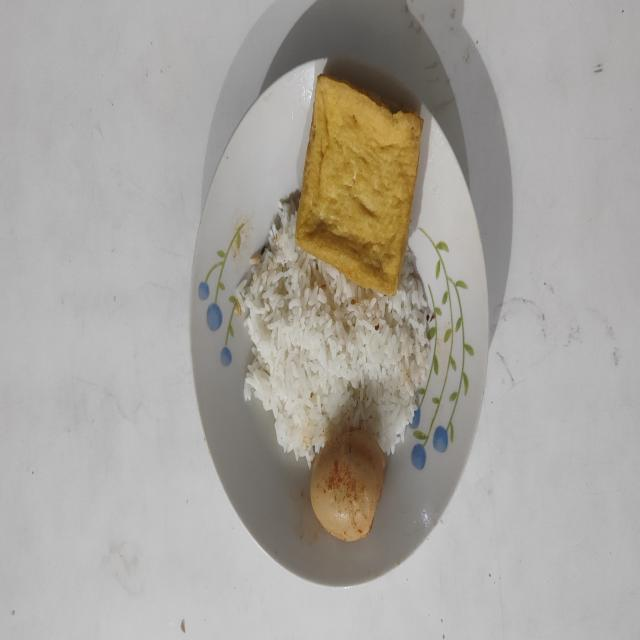nasi_putih: (236, 191, 430, 467)
tahu_goreng: (296, 74, 424, 294)
